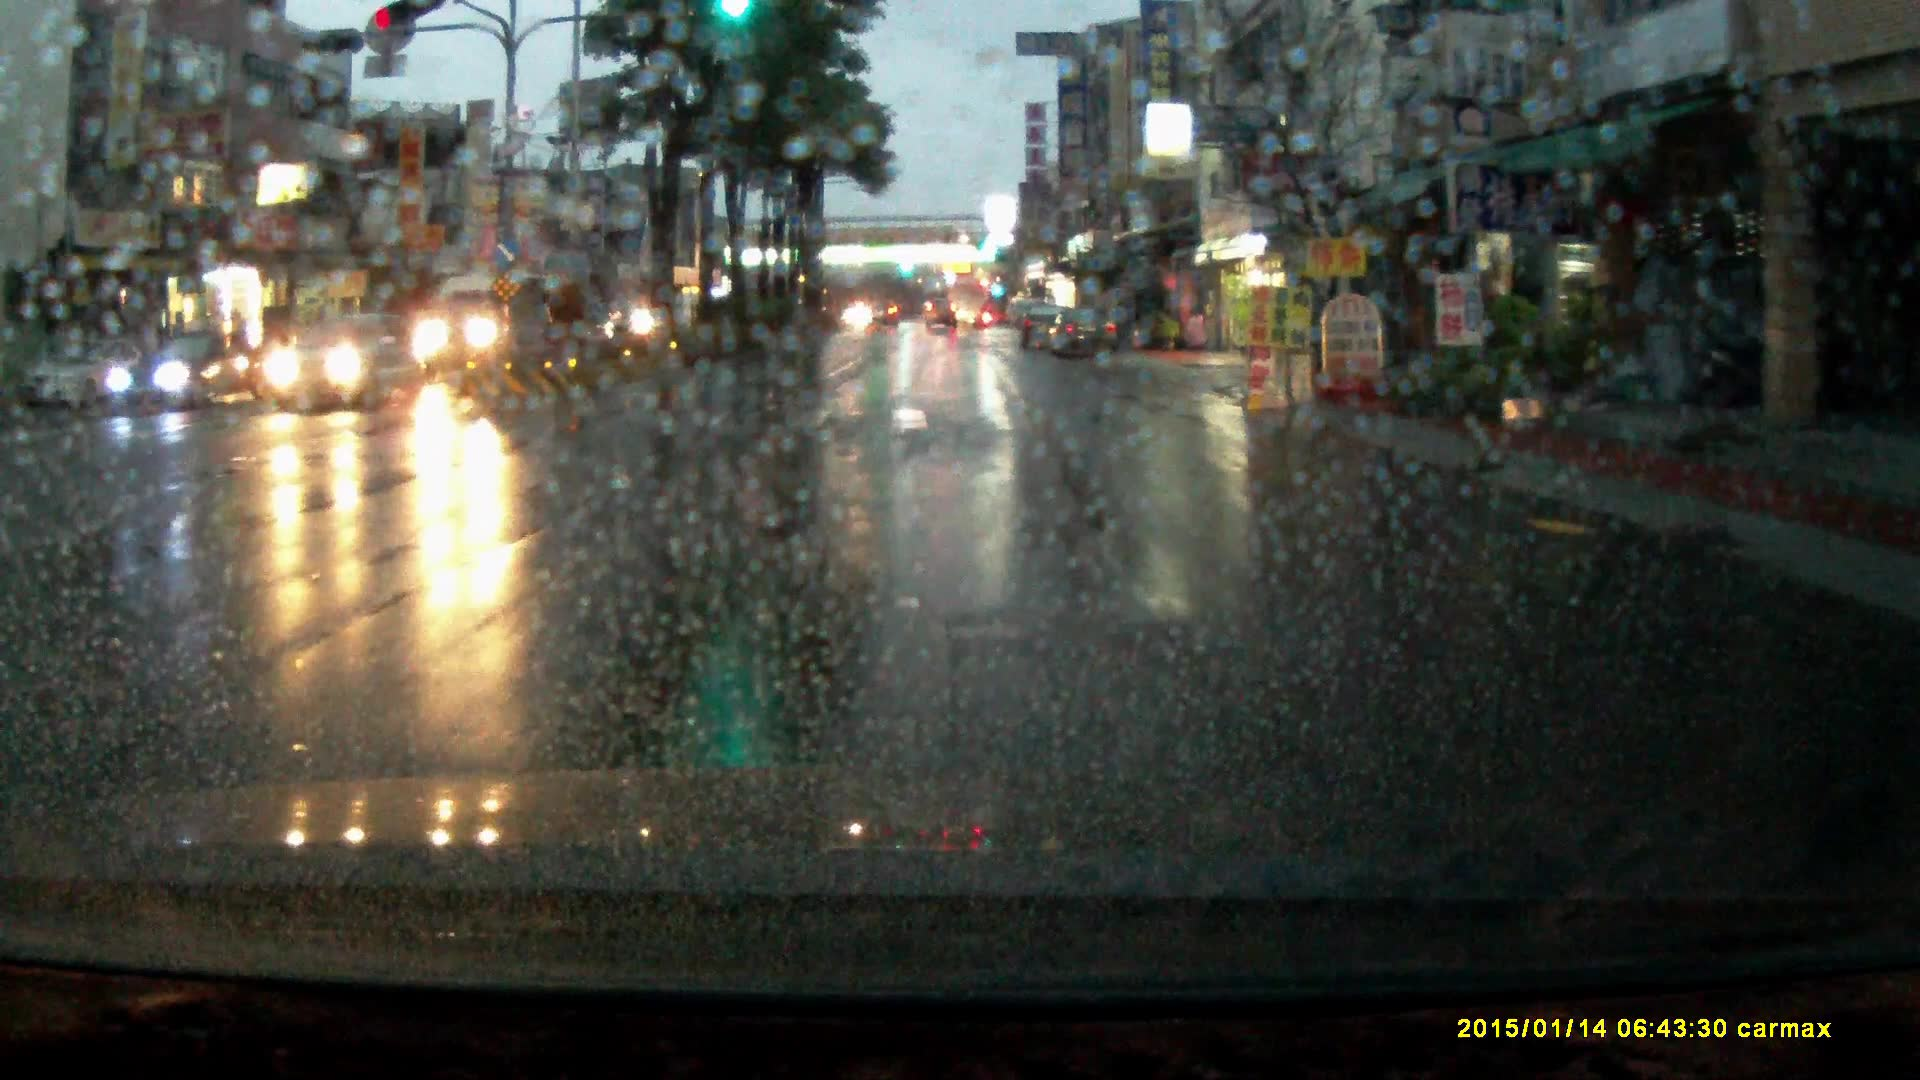vehicle: (418, 266, 553, 385), (264, 318, 425, 415), (91, 332, 243, 414), (25, 334, 152, 409), (1048, 307, 1122, 360), (1019, 305, 1068, 353), (949, 276, 988, 330), (926, 298, 959, 334), (864, 298, 899, 330)
